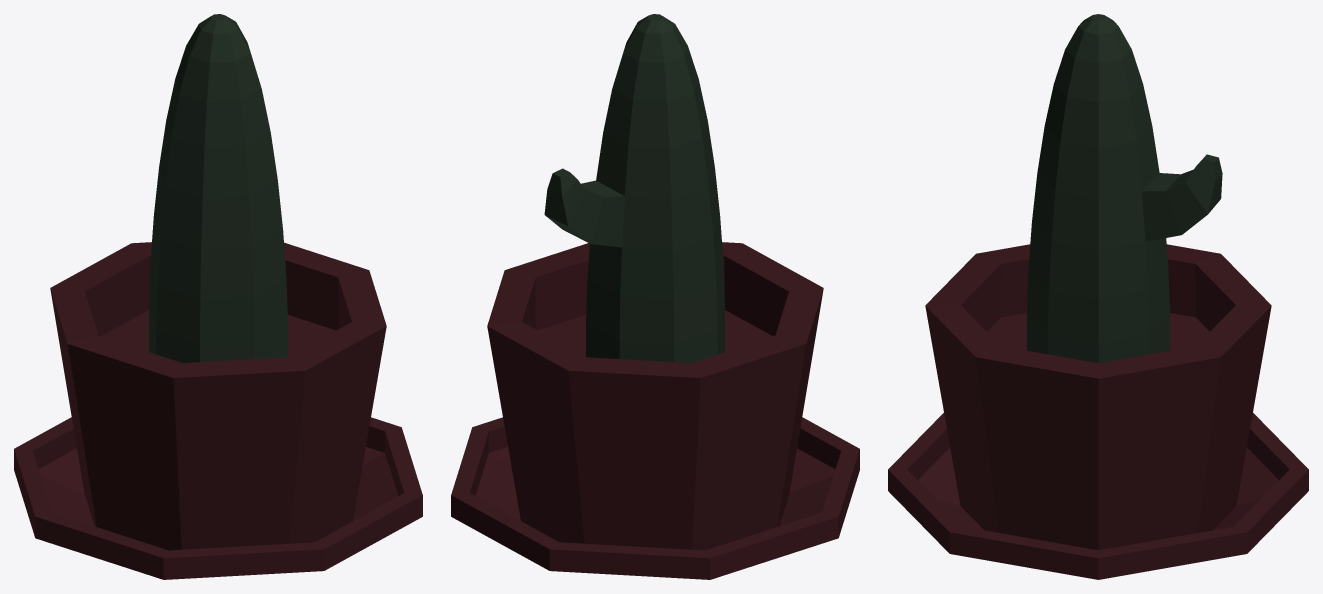
Rendered from cacti.fbx.
3 views of the same model, side by side, from view 1: azimuth 30°, elevation 25°; view 2: azimuth 150°, elevation 25°; view 3: azimuth 270°, elevation 25° (orthographic).
Visible parts, largest first — view 1: cacti; view 2: cacti; view 3: cacti.
Part boxes in pixels (left/top/right/bottom): cacti: left=14, top=14, right=422, bottom=579; cacti: left=451, top=14, right=859, bottom=579; cacti: left=888, top=14, right=1308, bottom=579.
Bounding box in the file's own units: 58 × 74.32 × 58.
